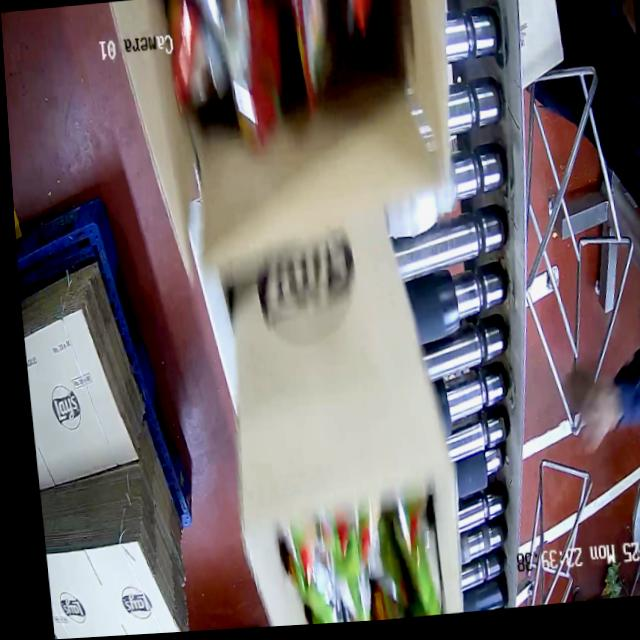MASALA: (149, 0, 394, 133)
YOGURT_HERB: (289, 506, 444, 625)
